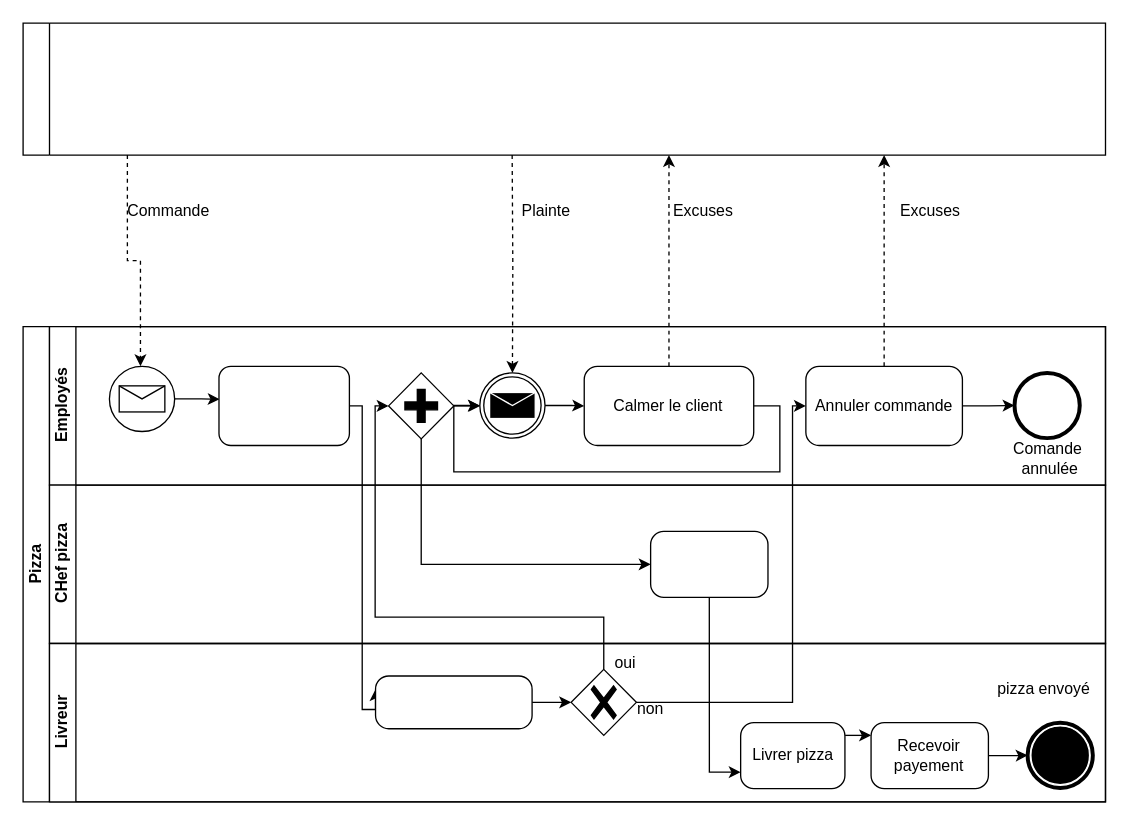
Some shapes in this 1129 by 825 pixel diagram are drawn without their labels. Each missing label, with the centre of its shape:
"Client" goes at point (564, 88).
"Enregistrer commande" goes at point (283, 405).
"Faire pizza" goes at point (708, 563).
"vérifier disponibilités livreur" goes at point (453, 702).
